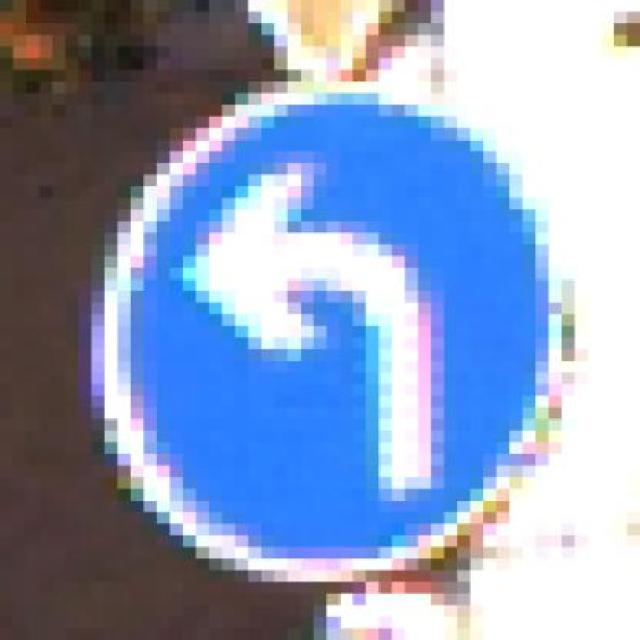Turn left ahead: (52, 69, 576, 594)
